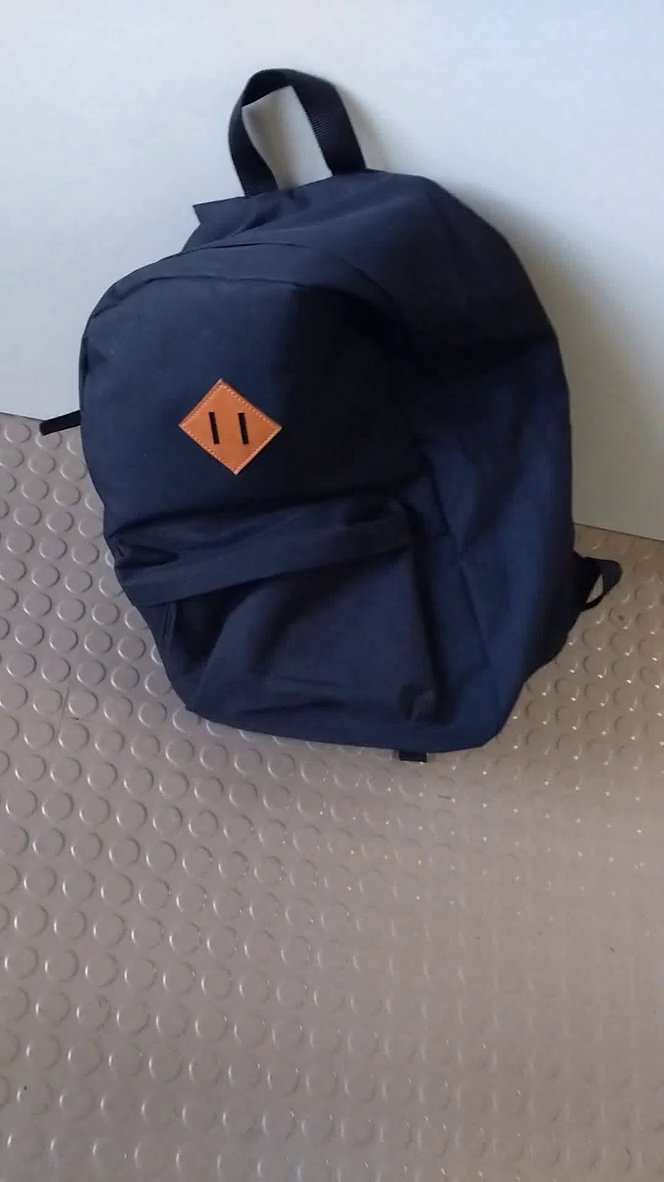bag: (30, 39, 629, 773)
